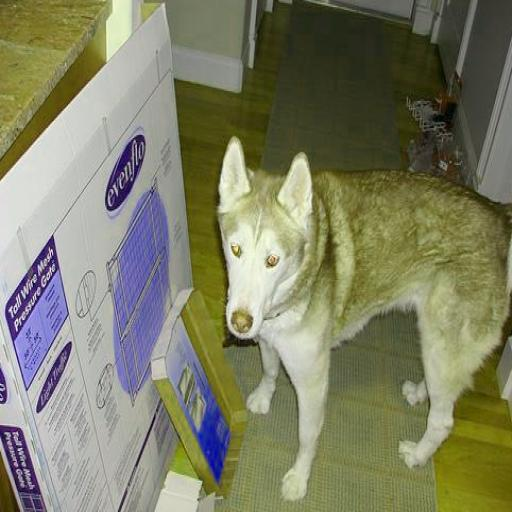dog_face: (211, 136, 309, 335)
